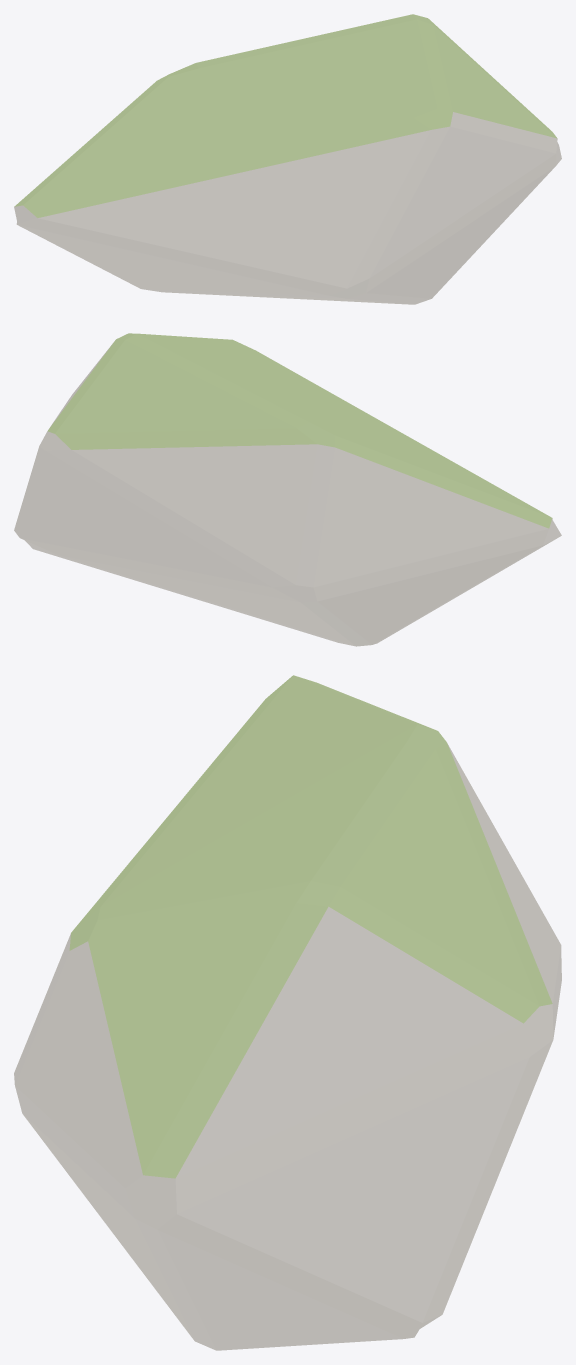
File: Blender_BoulderAngular_3.glb
3 renders of one model, top to bottom at view 1: azimuth 30°, elevation 25°; view 2: azimuth 150°, elevation 25°; view 3: azimuth 270°, elevation 25°, orthographic. The views are drawn at different scales.
Parts seen in each view (by area): view 1: Blender_BoulderAngular_3; view 2: Blender_BoulderAngular_3; view 3: Blender_BoulderAngular_3.
Part boxes in pixels (bbox=[...]): Blender_BoulderAngular_3: bbox=[14, 14, 561, 304]; Blender_BoulderAngular_3: bbox=[14, 333, 561, 646]; Blender_BoulderAngular_3: bbox=[14, 675, 561, 1350].
Bounding box in the file's own units: 2.28 × 1.09 × 1.12.
